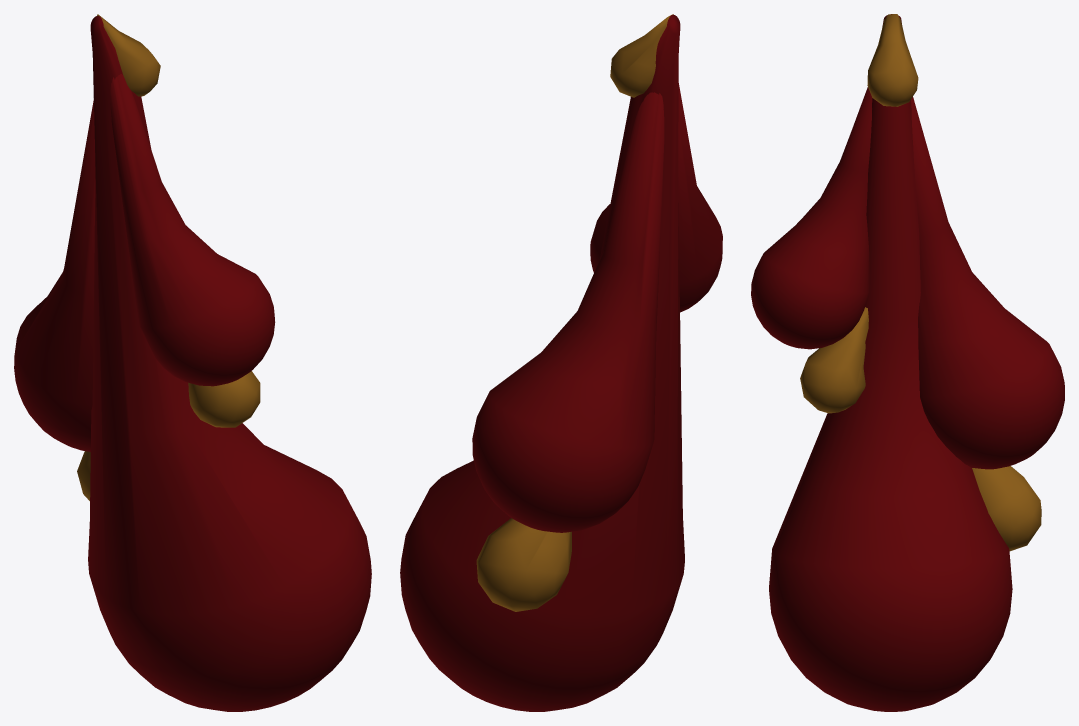
File: fbx_treesap.fbx
3 views of the same model, side by side, from view 1: azimuth 30°, elevation 25°; view 2: azimuth 150°, elevation 25°; view 3: azimuth 270°, elevation 25° (orthographic). The views are drawn at different scales.
Visible parts, largest first — view 1: Sphere; view 2: Sphere; view 3: Sphere.
Boxes of the visible parts, x1,y1,x2,y2 form: Sphere: (14, 14, 371, 711); Sphere: (400, 14, 722, 711); Sphere: (751, 14, 1064, 711).
Bounding box in the file's own units: 8.07 × 20.01 × 9.04.
